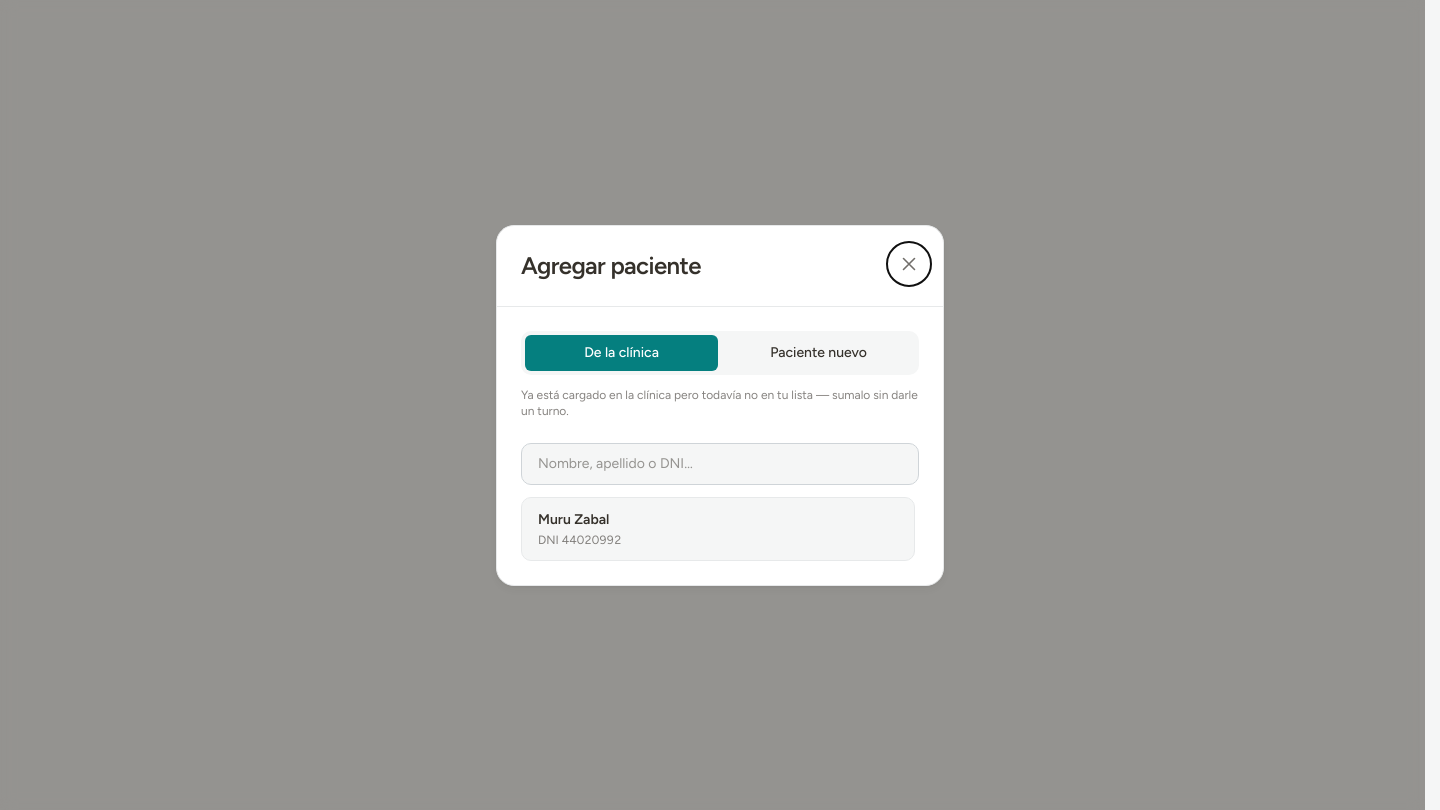
AgregarPacienteModal › pestaña 'De la clínica' › si el backend rechaza, lo dice y no cierra
Click the button "Muru Zabal DNI 44020992". click: point(554, 519)
box: [521,496,915,560]
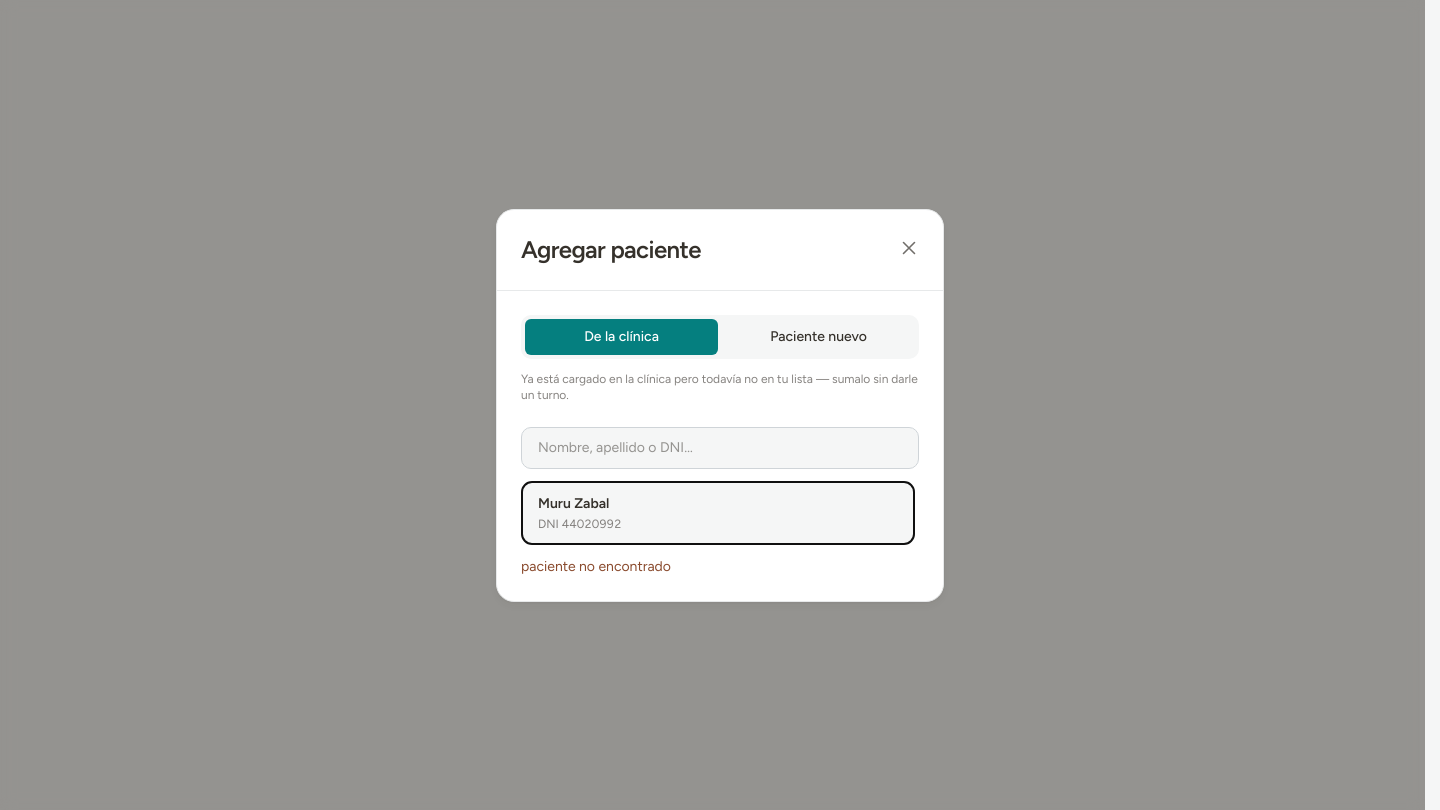
Check: the message reads "paciente no encontrado", box [521,558,671,574]
